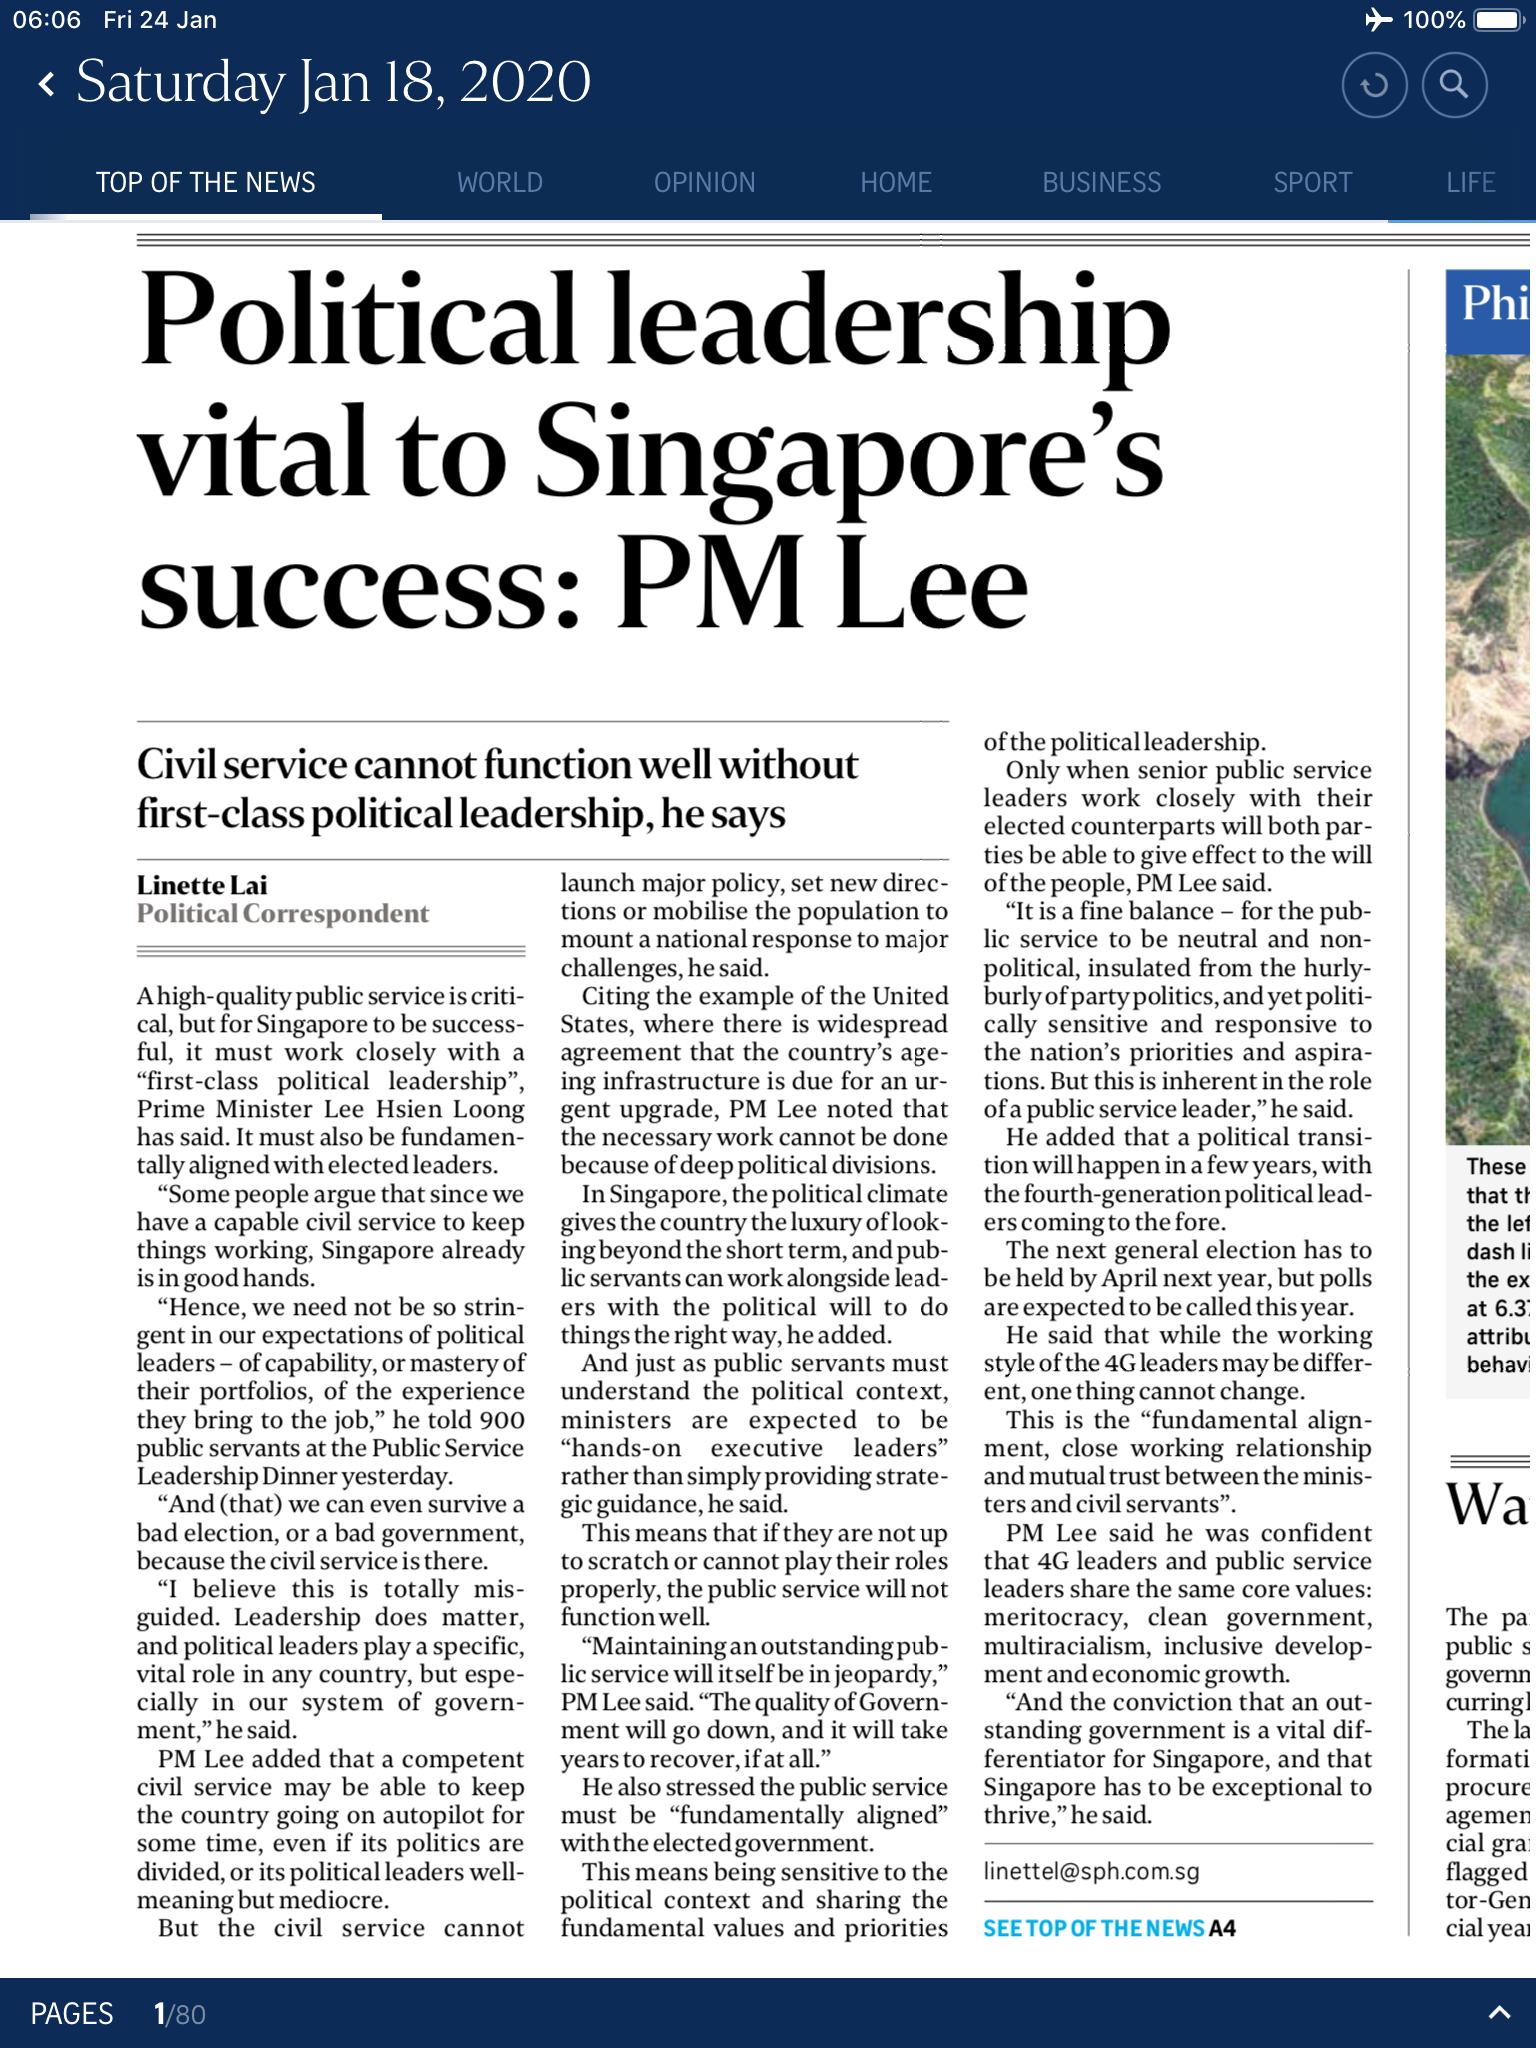Headline: (118, 244, 1192, 655), (119, 727, 895, 848)
